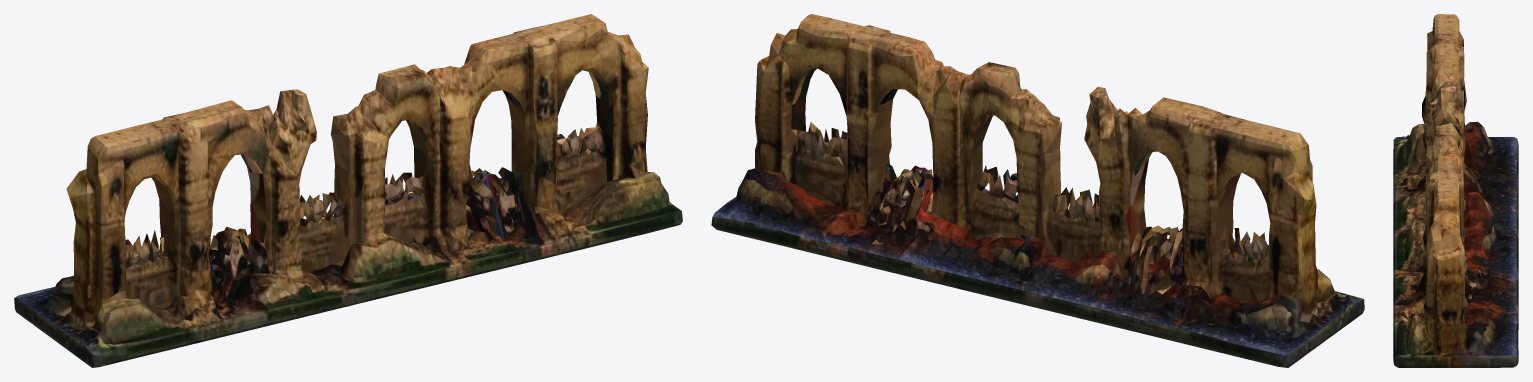
File: temple-arcade.glb
The picture shows the model from 3 angles, left to right: view 1: azimuth 30°, elevation 25°; view 2: azimuth 150°, elevation 25°; view 3: azimuth 270°, elevation 25°; orthographic projection. The views are drawn at different scales.
Visible parts, largest first — view 1: tmpy1ly6w73.ply; view 2: tmpy1ly6w73.ply; view 3: tmpy1ly6w73.ply.
Boxes of the visible parts, x1,y1,x2,y2 form: tmpy1ly6w73.ply: [14, 14, 682, 367]; tmpy1ly6w73.ply: [711, 14, 1364, 367]; tmpy1ly6w73.ply: [1393, 14, 1518, 367].
Bounding box in the file's own units: 5 × 1.6 × 1.2.
1 material, 1 textured.
